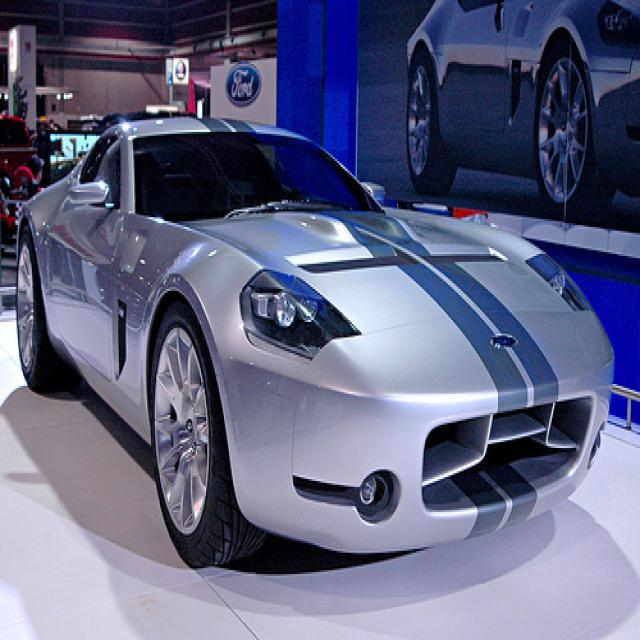Car: (15, 103, 617, 578)
